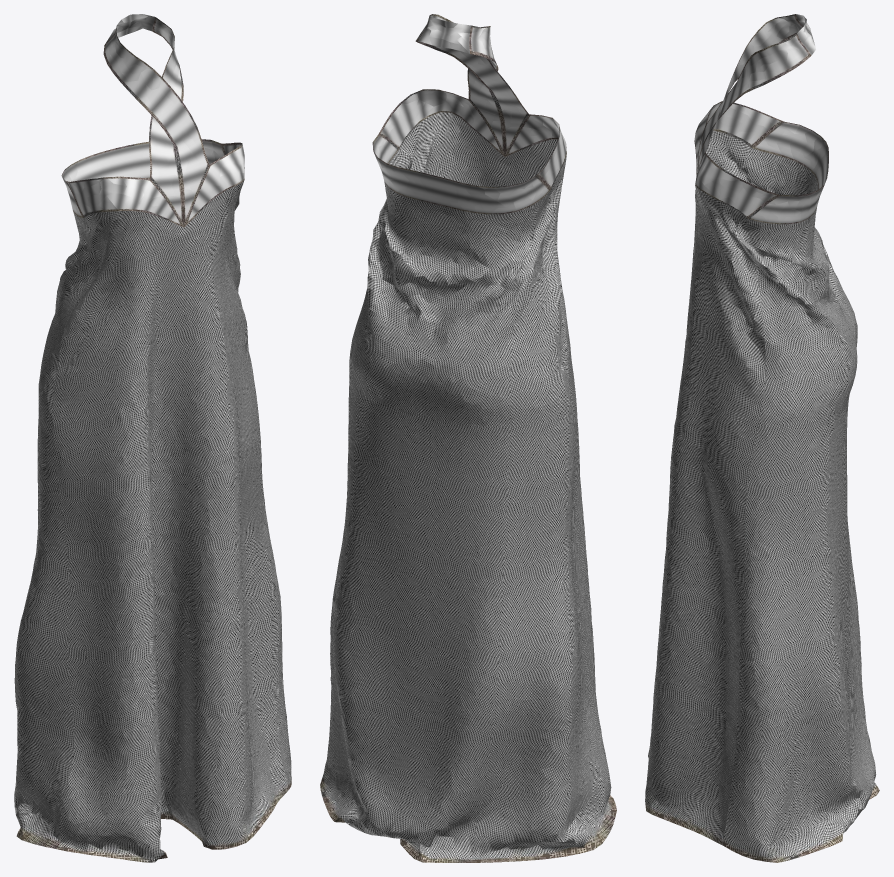
Rendered from elvs-goddess-dress7.glb.
3 renders of one model, left to right at view 1: azimuth 30°, elevation 25°; view 2: azimuth 150°, elevation 25°; view 3: azimuth 270°, elevation 25°, orthographic. The views are drawn at different scales.
Visible parts, largest first — view 1: goddess dress7; view 2: goddess dress7; view 3: goddess dress7.
Boxes of the visible parts, x1,y1,x2,y2 form: goddess dress7: (14,14,291,862); goddess dress7: (320,14,616,862); goddess dress7: (645,14,879,862).
Size of the model in its own units: 50.33 by 141 by 38.52.
1 material, 1 textured.
